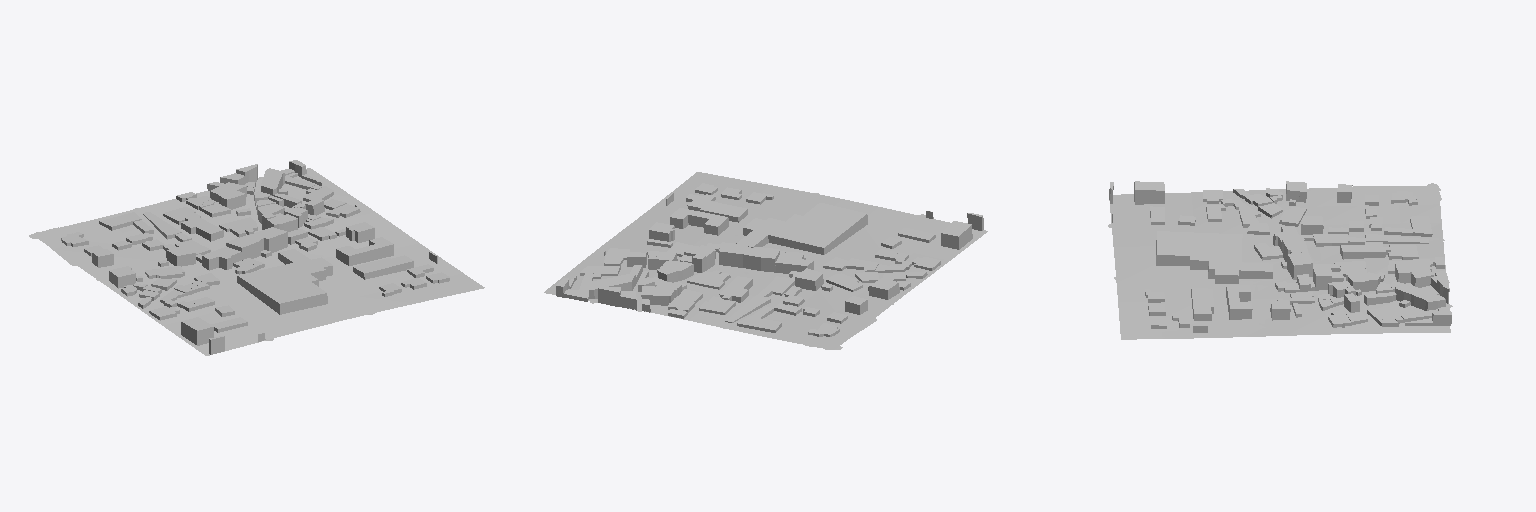
File: edolo.obj
3 renders of one model, left to right at view 1: azimuth 30°, elevation 25°; view 2: azimuth 150°, elevation 25°; view 3: azimuth 270°, elevation 25°, orthographic.
Parts seen in each view (by area): view 1: obj999; view 2: obj999; view 3: obj999.
Boxes of the visible parts, box(x1,y1,x2,y2) form: obj999: box(29, 160, 484, 355); obj999: box(544, 172, 987, 349); obj999: box(1108, 181, 1452, 339).
Bounding box in the file's own units: 31.04 × 2.08 × 30.91.